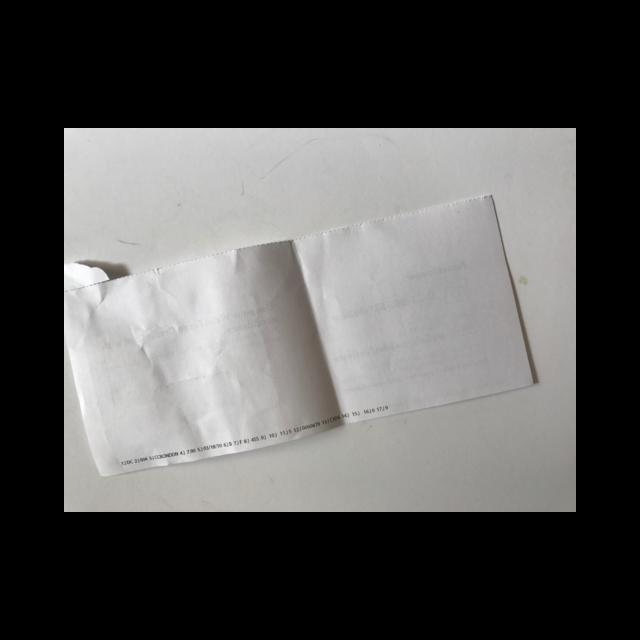paper: (64, 193, 532, 477)
